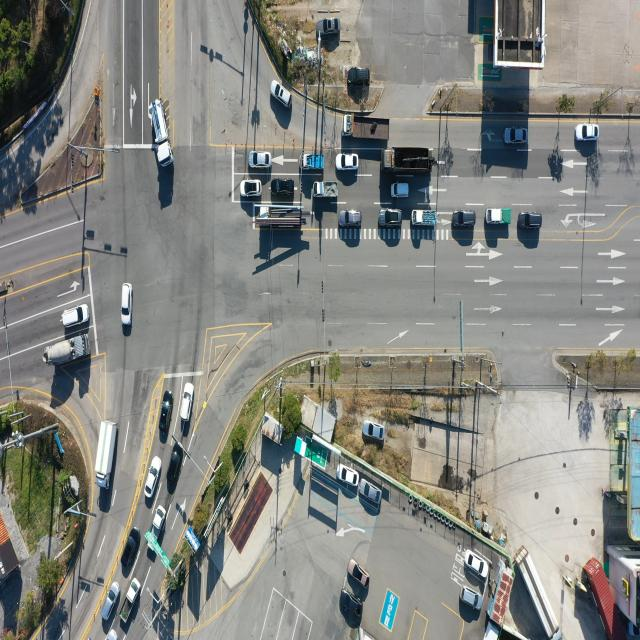car: (166, 445, 183, 493), (123, 527, 142, 569), (144, 456, 162, 499), (101, 582, 120, 622), (61, 304, 90, 330), (467, 550, 491, 580), (341, 591, 364, 620), (272, 81, 292, 110), (350, 560, 370, 588), (460, 587, 482, 612), (359, 480, 381, 504), (180, 382, 193, 421), (338, 463, 360, 486), (161, 396, 174, 434), (378, 208, 402, 228), (339, 209, 364, 228), (120, 283, 131, 326), (362, 420, 384, 440), (349, 66, 371, 86), (574, 124, 598, 142), (251, 150, 273, 169), (336, 152, 359, 170), (519, 212, 543, 229), (241, 179, 262, 198), (506, 128, 528, 146), (454, 210, 476, 228), (272, 178, 294, 196), (321, 18, 340, 36), (390, 182, 410, 198)
medium_truck: (518, 543, 561, 637), (148, 96, 173, 169), (43, 332, 91, 369), (92, 418, 116, 488), (254, 204, 306, 229), (384, 148, 434, 174), (343, 117, 390, 143)
small_truck: (121, 576, 142, 622), (148, 506, 168, 548), (313, 180, 338, 199), (412, 209, 437, 227), (303, 155, 326, 173), (487, 208, 510, 225)
